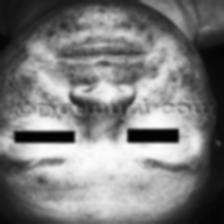Non-Cancerous Skin Condition: (0, 0, 213, 116)
